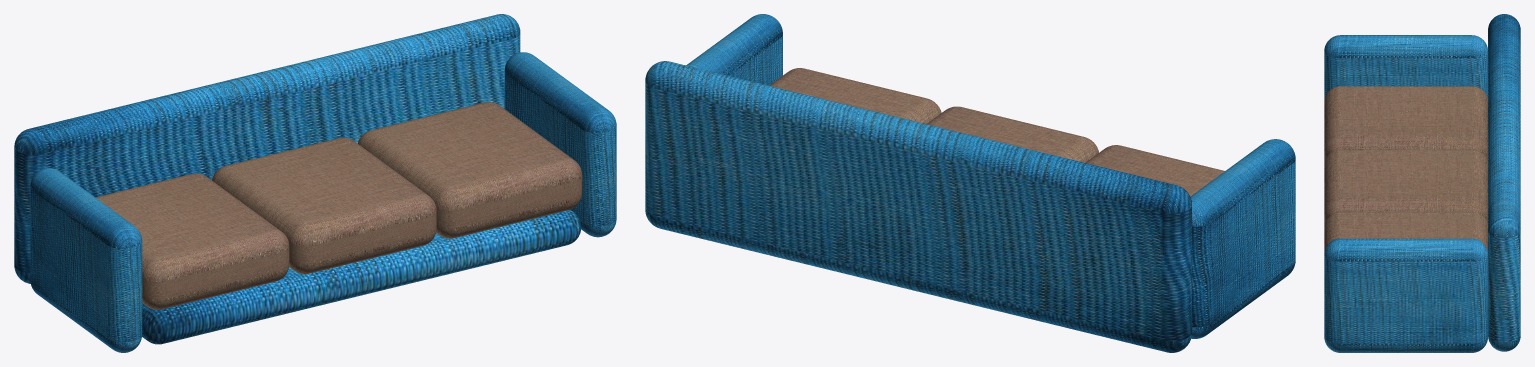
File: sofa.FBX
3 renders of one model, left to right at view 1: azimuth 30°, elevation 25°; view 2: azimuth 150°, elevation 25°; view 3: azimuth 270°, elevation 25°, orthographic. The views are drawn at different scales.
Parts seen in each view (by area): view 1: ChamferBox005, ChamferBox003, ChamferBox004, ChamferBox002, ChamferBox001, ChamferBox006, ChamferBox007; view 2: ChamferBox005, ChamferBox006, ChamferBox007, ChamferBox003, ChamferBox004, ChamferBox002; view 3: ChamferBox007, ChamferBox005, ChamferBox002, ChamferBox003, ChamferBox006, ChamferBox004.
Part boxes in pixels (x1,y1,x2,y2): ChamferBox005: (14, 14, 520, 283); ChamferBox003: (212, 137, 436, 274); ChamferBox004: (358, 102, 582, 238); ChamferBox002: (95, 173, 289, 309); ChamferBox001: (142, 209, 581, 344); ChamferBox006: (30, 168, 142, 352); ChamferBox007: (504, 52, 616, 237); ChamferBox005: (645, 61, 1191, 352); ChamferBox006: (1190, 139, 1295, 338); ChamferBox007: (686, 14, 782, 85); ChamferBox003: (926, 106, 1098, 162); ChamferBox004: (769, 68, 941, 123); ChamferBox002: (1085, 145, 1224, 196); ChamferBox007: (1324, 238, 1488, 352); ChamferBox005: (1488, 14, 1520, 351); ChamferBox002: (1324, 86, 1487, 163); ChamferBox003: (1324, 149, 1487, 226); ChamferBox006: (1324, 35, 1487, 100); ChamferBox004: (1324, 211, 1487, 251).
Size of the model in its own units: 3135 by 900 by 1199.
Materials: 2 (2 with a texture image).
